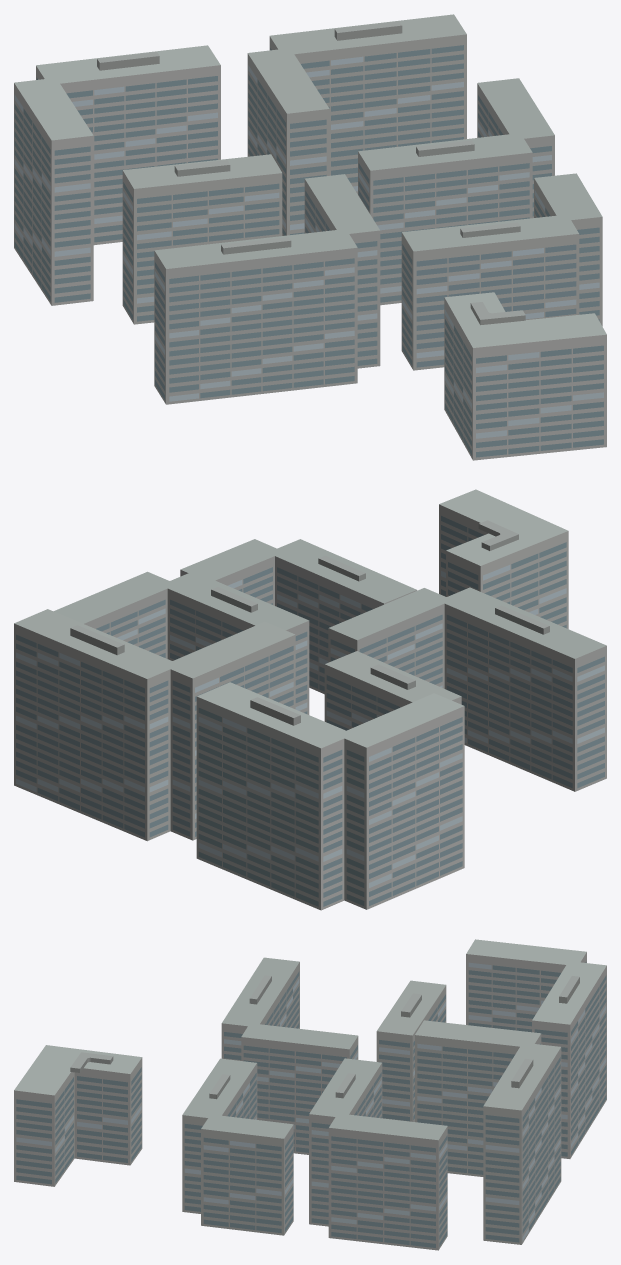
Rendered from apt-a13481305.glb.
The picture shows the model from 3 angles, top to bottom: view 1: azimuth 30°, elevation 25°; view 2: azimuth 150°, elevation 25°; view 3: azimuth 270°, elevation 25°; orthographic projection. The views are drawn at different scales.
Visible parts, largest first — view 1: apt-a13481305; view 2: apt-a13481305; view 3: apt-a13481305.
Boxes of the visible parts, <box> form: apt-a13481305: <box>14,14,606,460</box>; apt-a13481305: <box>14,489,606,910</box>; apt-a13481305: <box>14,939,606,1250</box>.
Bounding box in the file's own units: 139 × 50 × 191.
